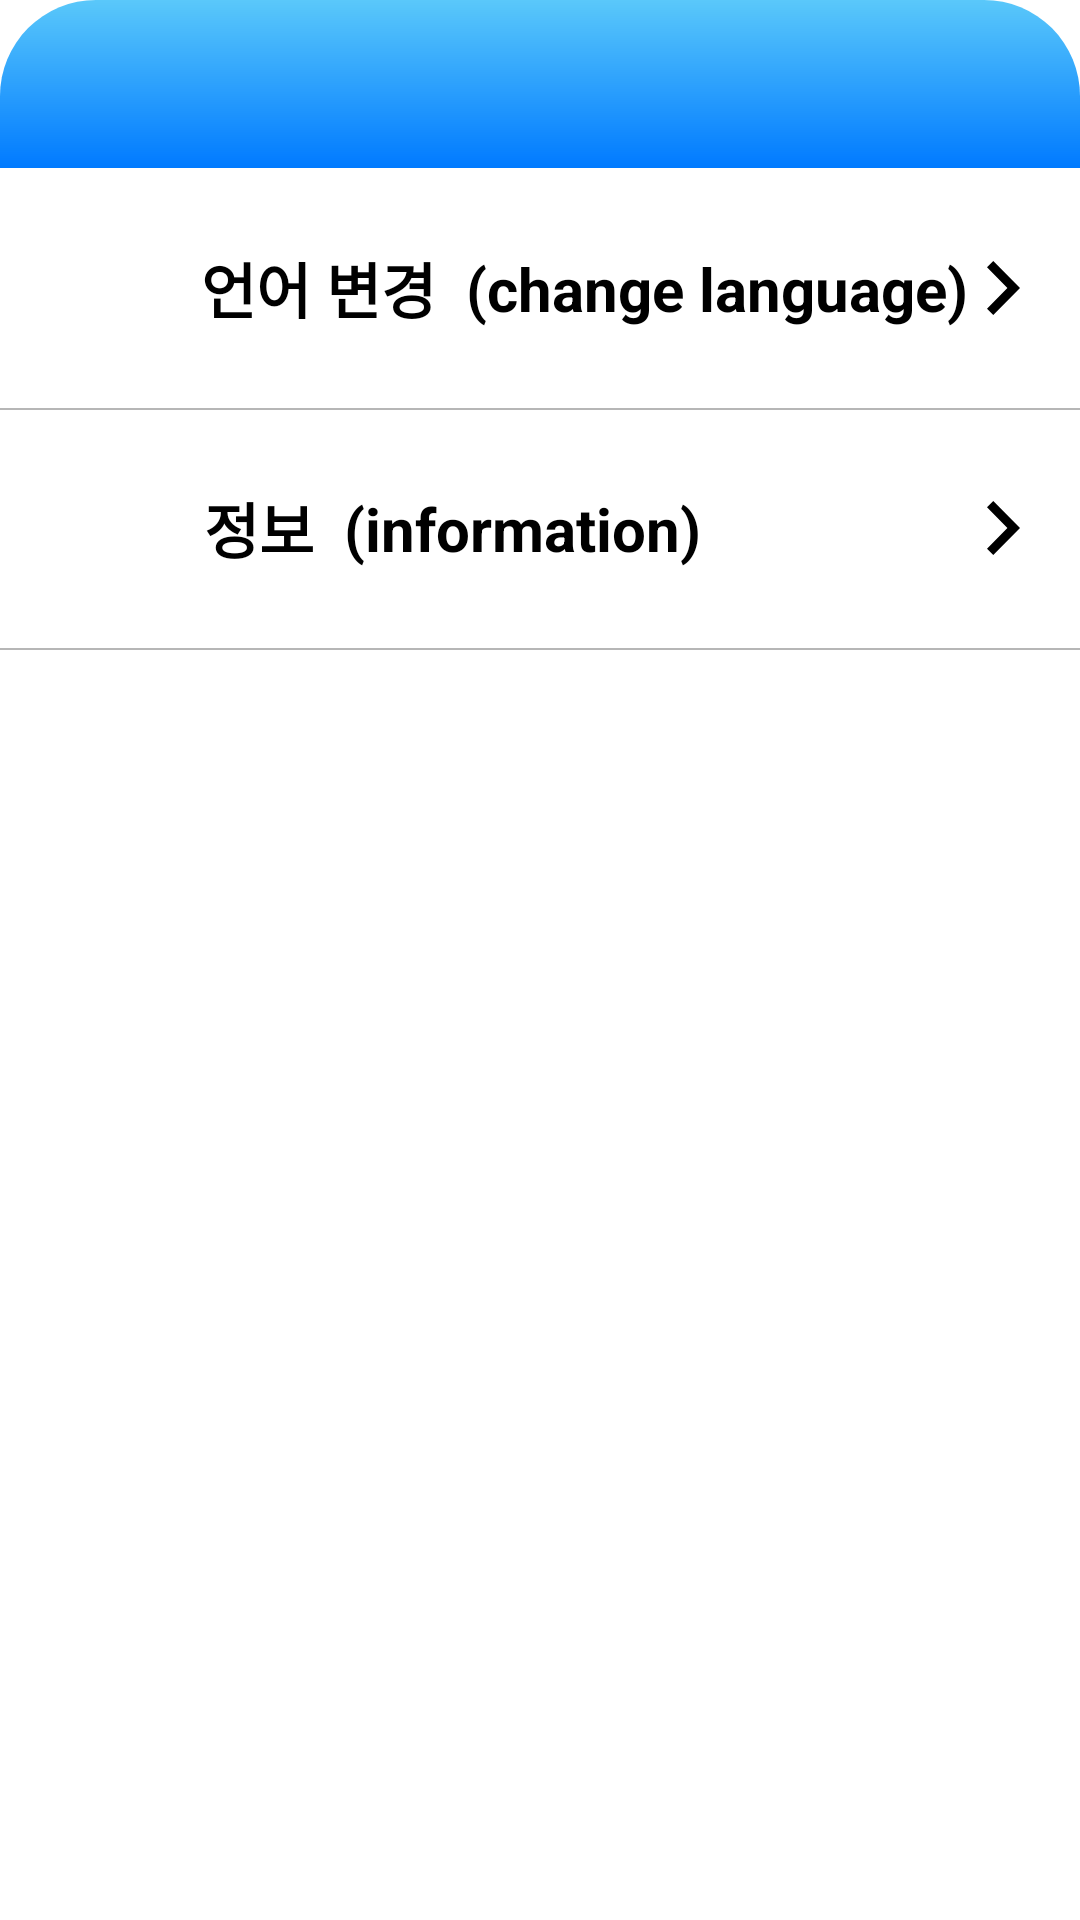

Where icons sit on this 1080 × 1920 app screen, as [left=x1, top=y1, right=x2, bottom=y2]:
next: [left=987, top=261, right=1020, bottom=315], [left=987, top=501, right=1020, bottom=555]
